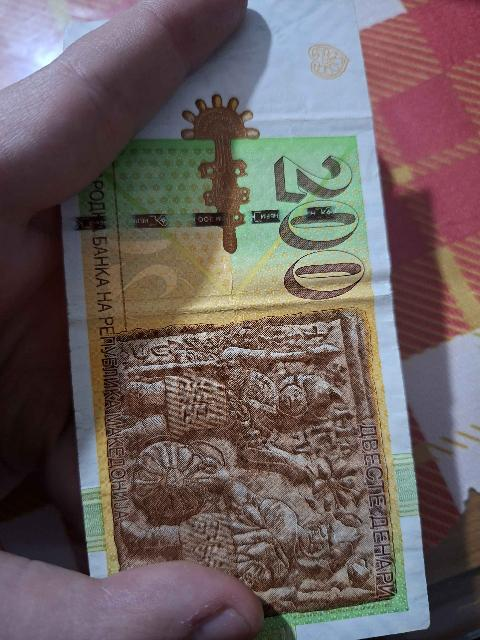200_note: (62, 7, 426, 639)
